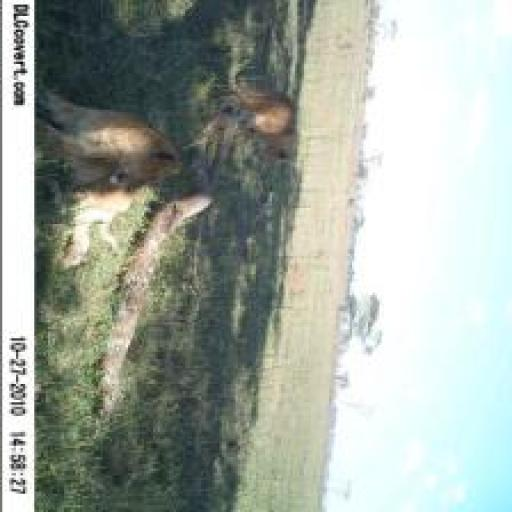lion: (44, 82, 188, 277), (215, 64, 313, 173)
